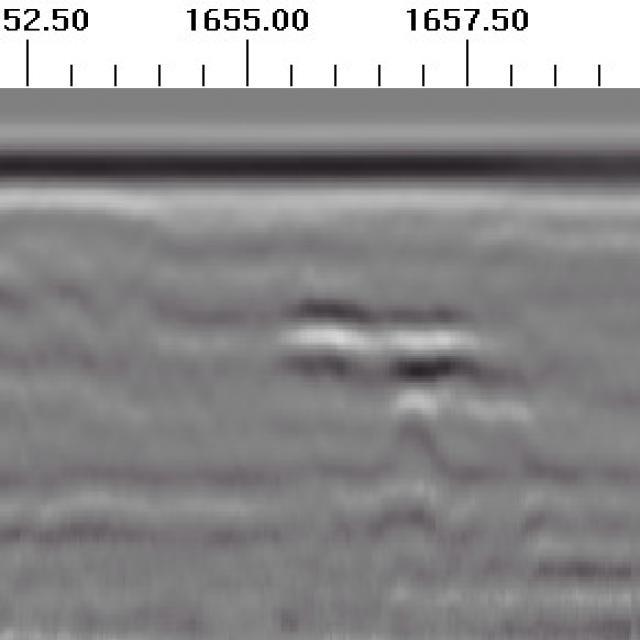loose: (274, 278, 553, 440)
